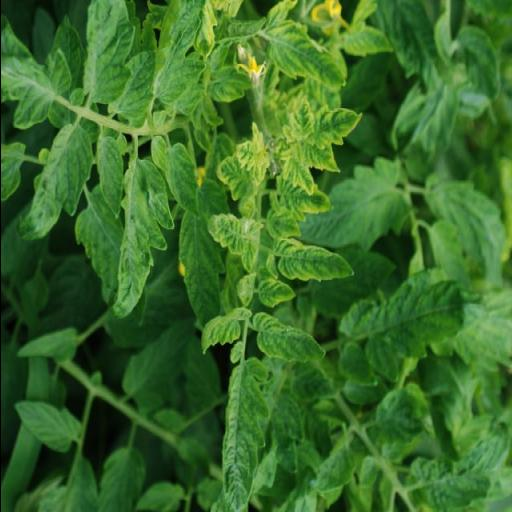disease_tomato: (109, 150, 175, 320), (216, 357, 270, 512), (151, 0, 204, 114), (262, 20, 347, 89), (81, 0, 132, 106), (274, 237, 357, 287), (252, 313, 327, 361), (161, 137, 200, 223), (266, 174, 334, 222), (199, 300, 252, 357), (303, 102, 364, 150), (234, 121, 272, 183), (205, 206, 251, 256), (256, 276, 295, 309)
